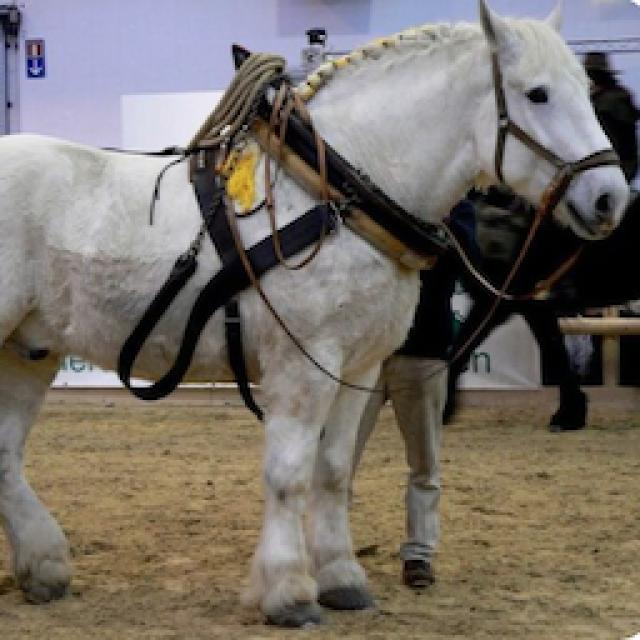Horse: (0, 0, 635, 630)
